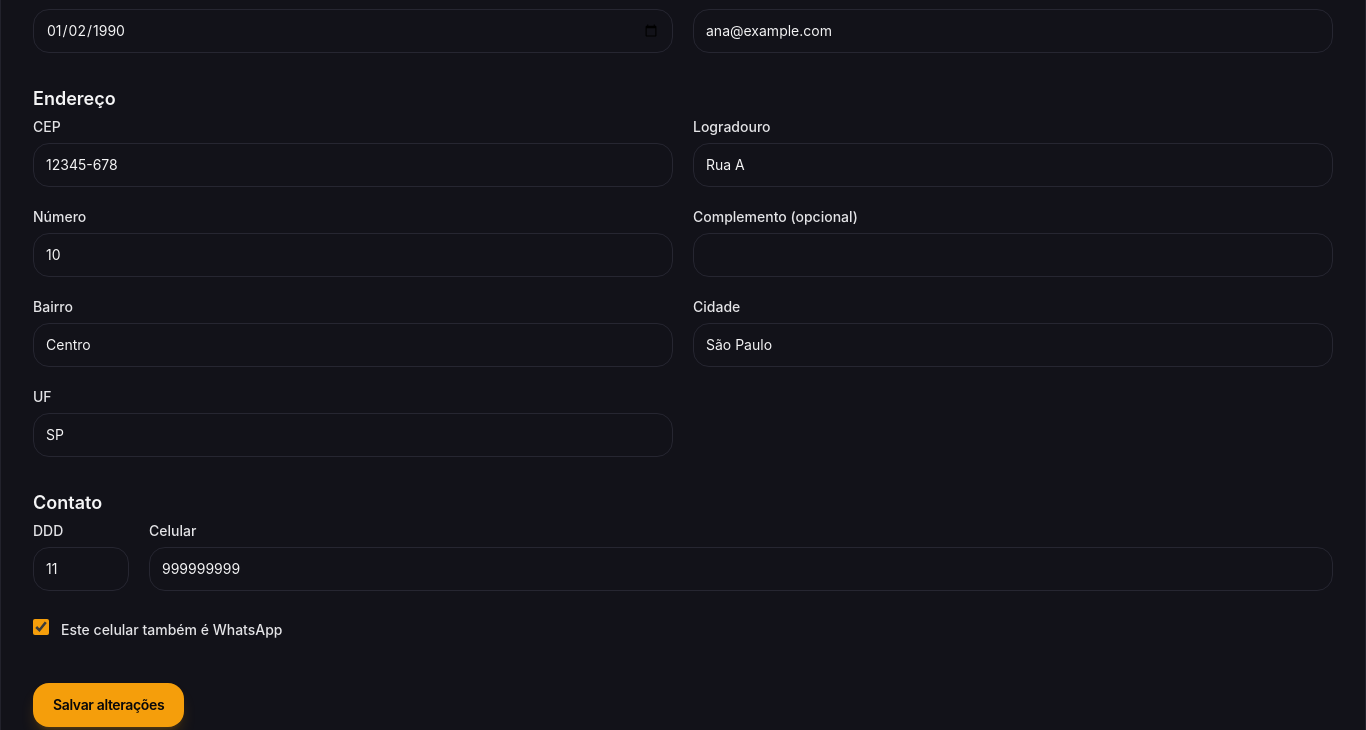
Test: CustomerDataForm › does not keep an old success message when a later CPF confirmation fails
(page scrolled)
Click the button "Salvar alterações" at (109, 705), box [33,683,184,727]
(page scrolled)
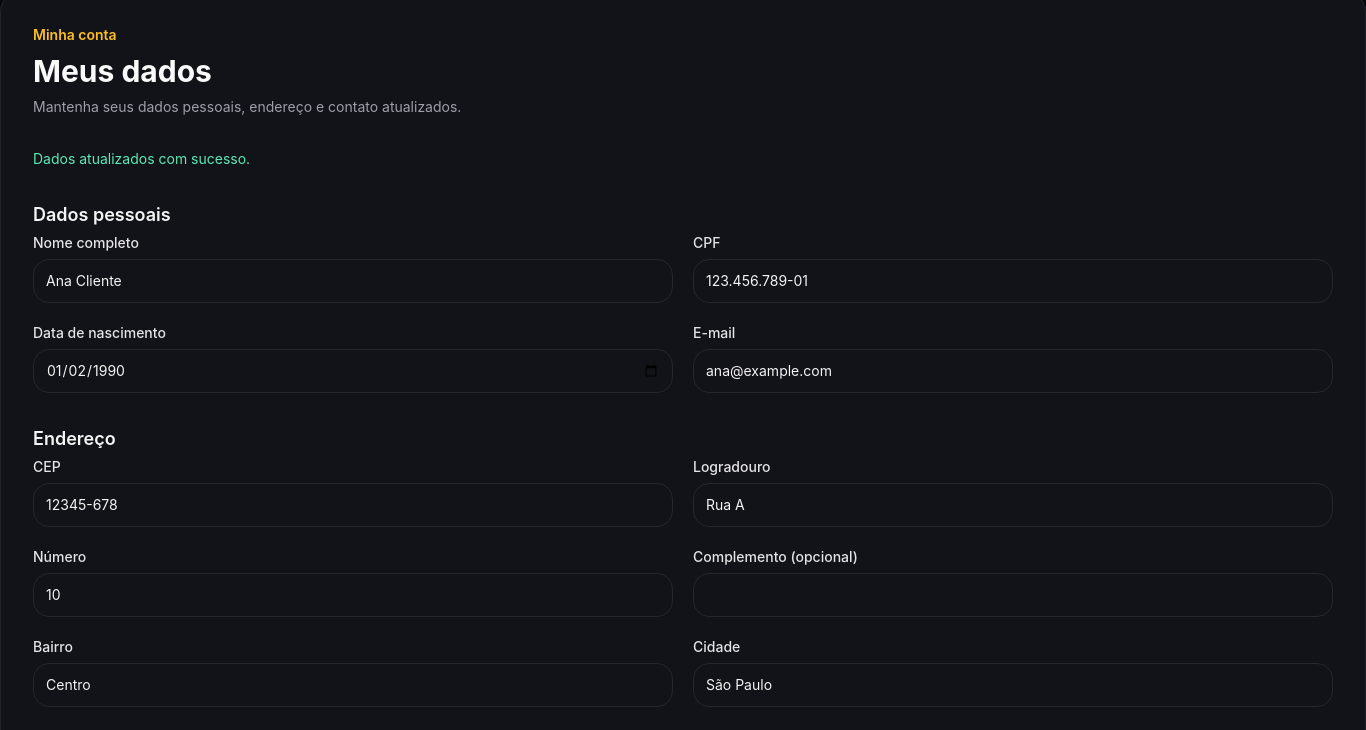
Now the text "Dados atualizados com sucesso." is shown, box [33,150,250,167]
Replace the text in the field labelled "CPF" with "98765432100" at (1013, 281), box [693,259,1333,303]
(page scrolled)
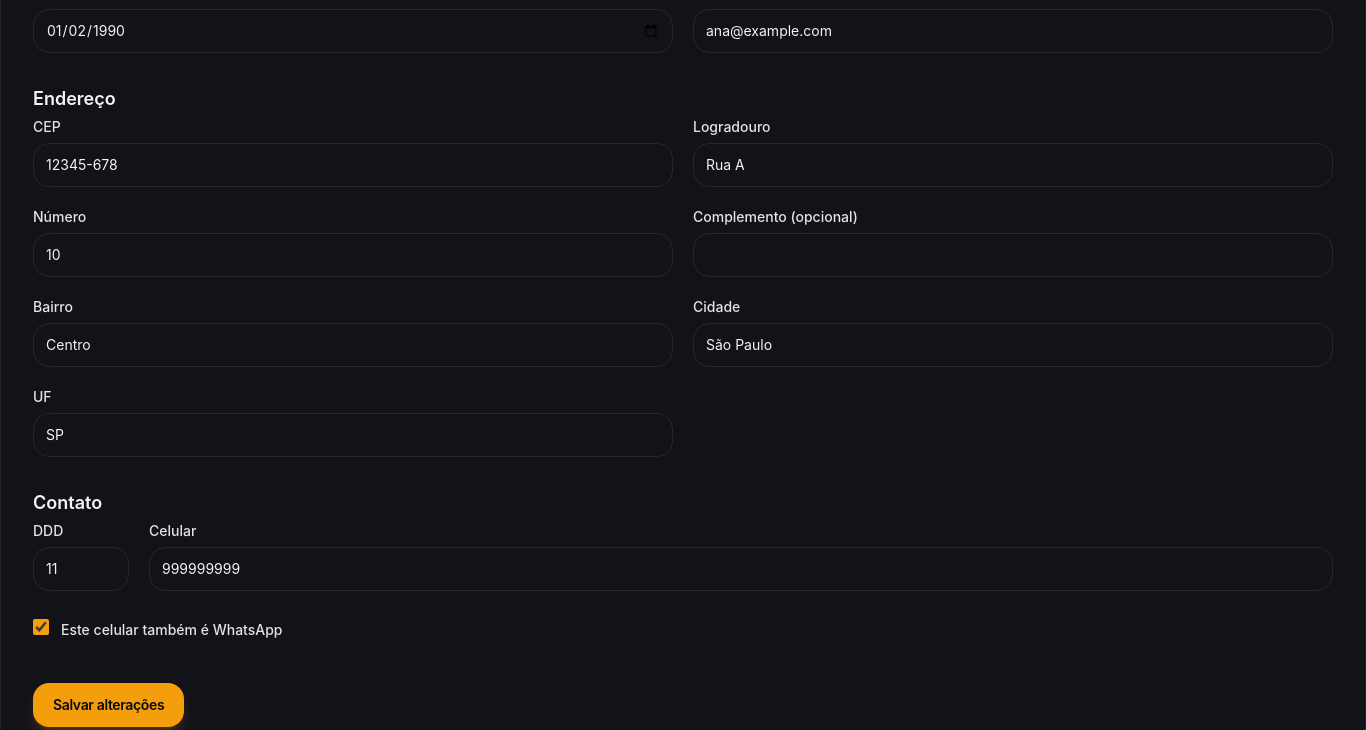
Click the button "Salvar alterações" at (109, 705), box [33,683,184,727]
(page scrolled)
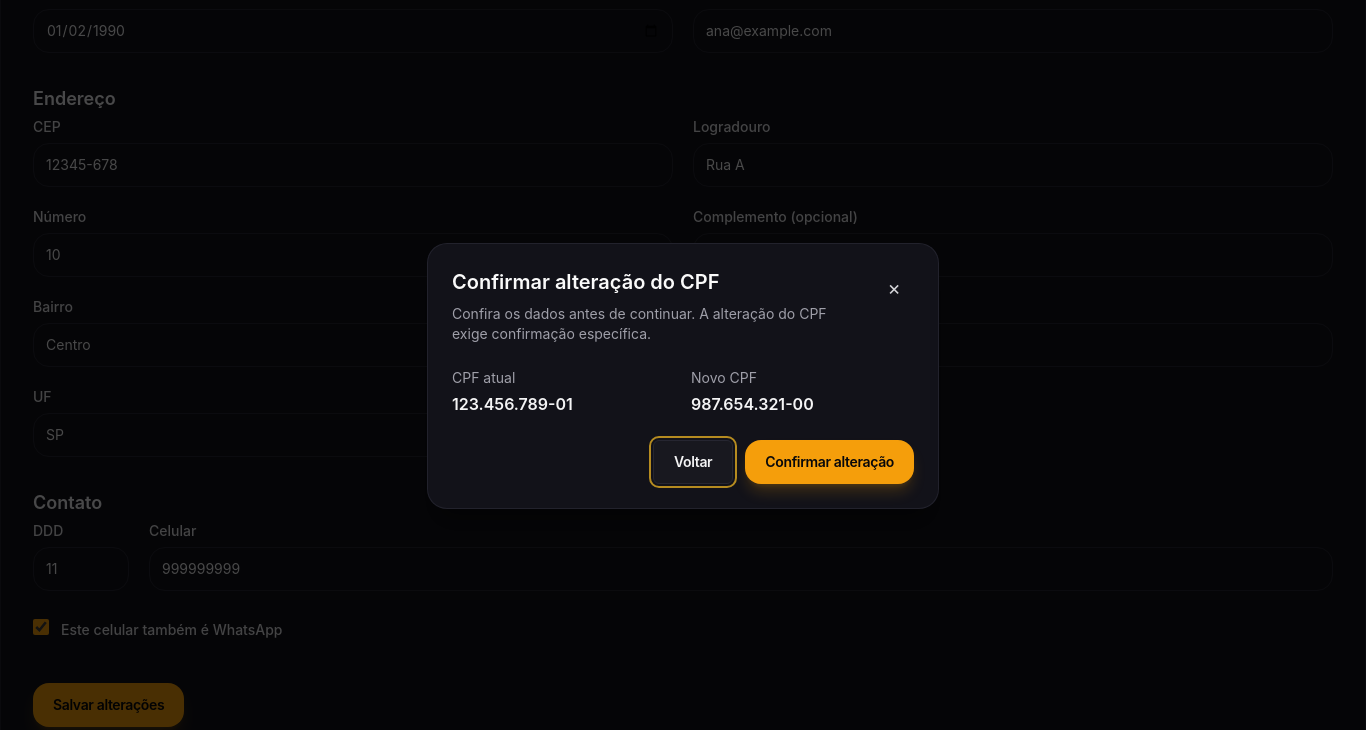
Click the button "Confirmar alteração" at (830, 462), box [745,440,914,484]
(page scrolled)
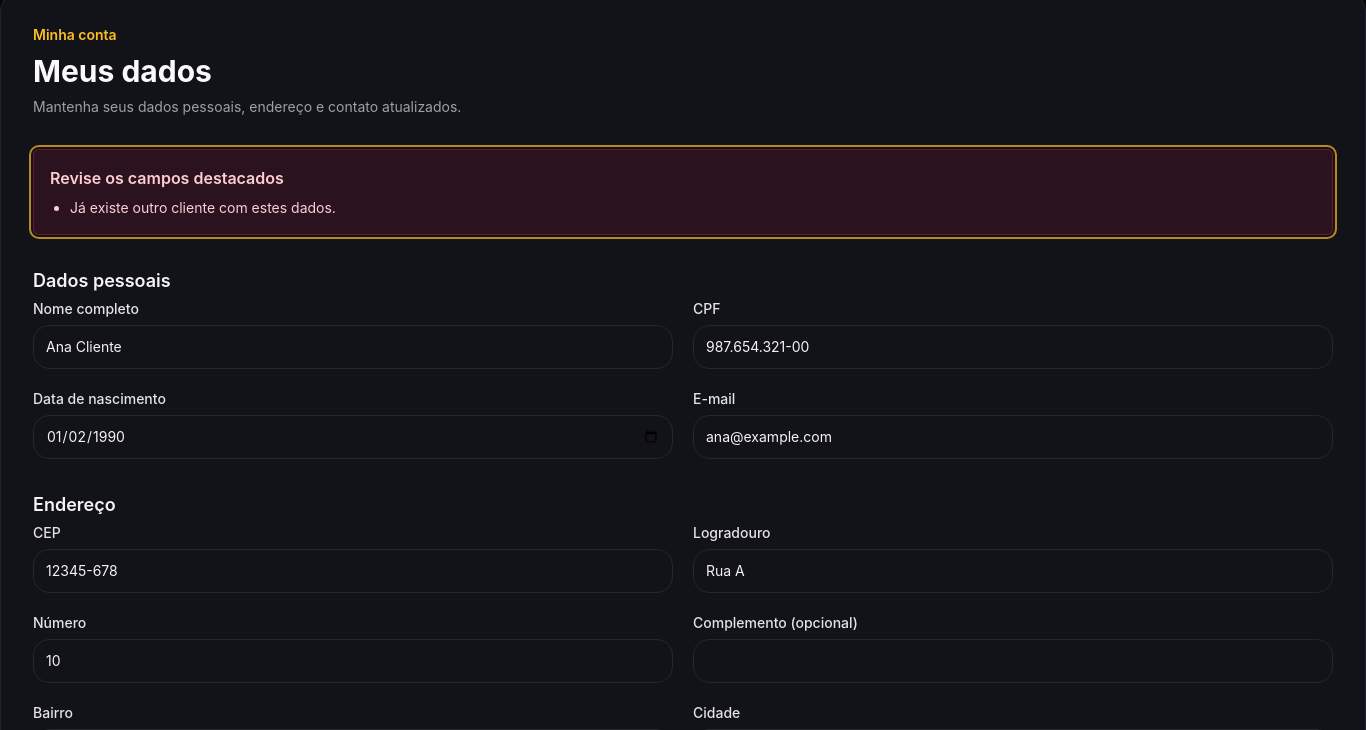
Expected: the text "Dados atualizados com sucesso." is not shown
Now the list item "Já existe outro cliente com estes dados." is shown, box [70,199,336,216]
